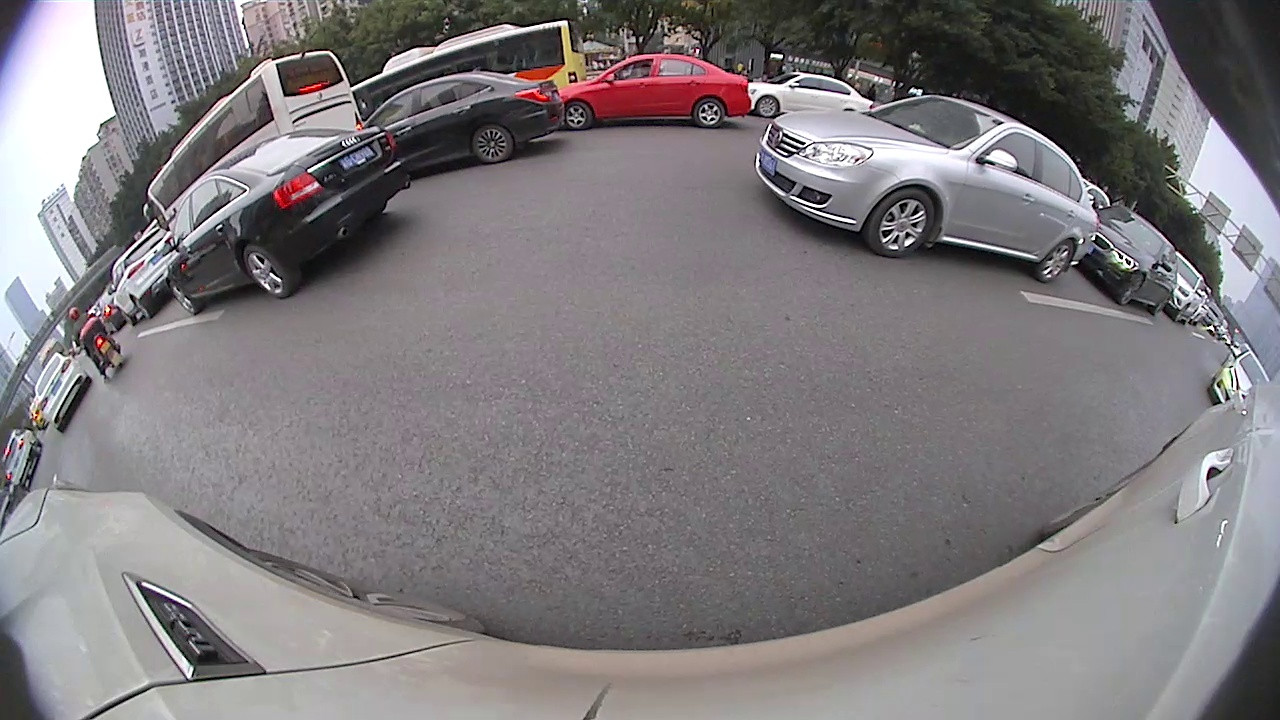bus: (142, 48, 367, 235), (344, 14, 584, 128)
car: (754, 94, 1102, 285), (166, 126, 407, 316), (356, 73, 561, 174), (548, 51, 752, 131), (1083, 202, 1181, 317), (737, 66, 875, 120), (110, 228, 184, 327), (31, 351, 90, 431), (1208, 344, 1272, 409), (1165, 248, 1208, 324), (1, 426, 44, 492)
front: (865, 187, 936, 259), (170, 281, 198, 317), (1118, 275, 1143, 307), (564, 103, 591, 131), (756, 96, 779, 118)
rear: (243, 243, 293, 298), (471, 124, 514, 164), (1037, 239, 1074, 284), (693, 98, 725, 128)
rider: (67, 303, 124, 380)
